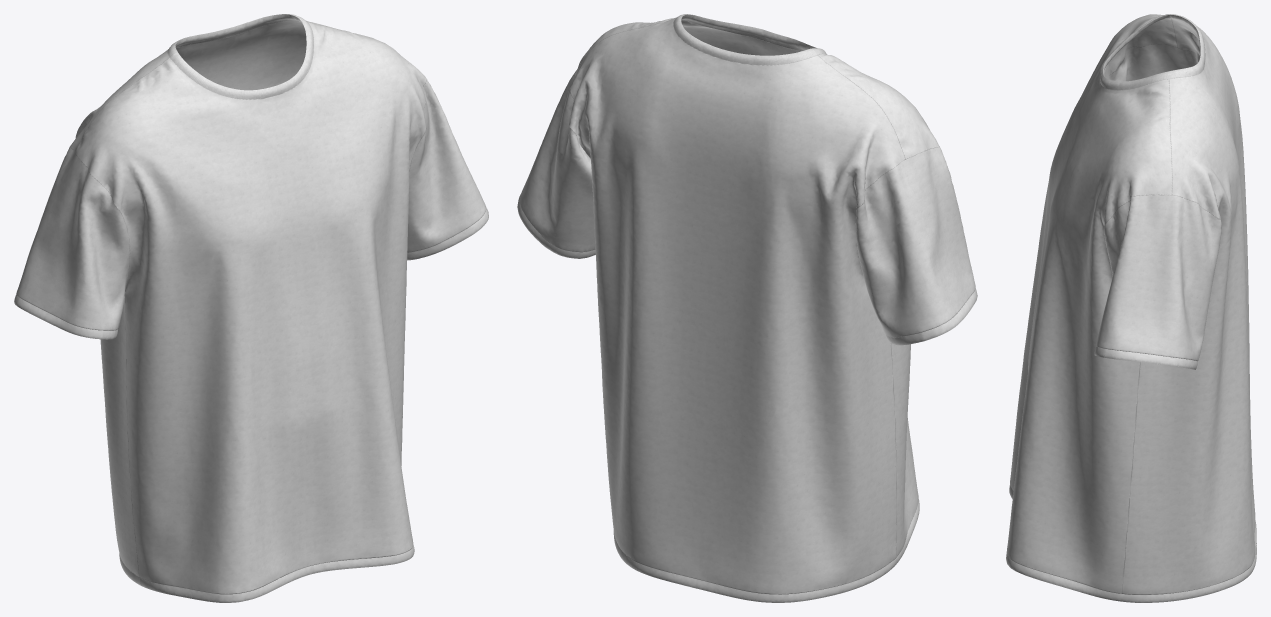
Rendered from tee_model.glb.
3 renders of one model, left to right at view 1: azimuth 30°, elevation 25°; view 2: azimuth 150°, elevation 25°; view 3: azimuth 270°, elevation 25°, orthographic. The views are drawn at different scales.
Parts seen in each view (by area): view 1: Object_4, Object_3, Object_5, Object_2; view 2: Object_4, Object_5, Object_3, Object_2; view 3: Object_4, Object_3, Object_5, Object_2.
Part boxes in pixels (left/top/right/bottom): Object_4: left=16, top=20, right=426, bottom=594; Object_3: left=75, top=14, right=488, bottom=575; Object_5: left=95, top=20, right=320, bottom=558; Object_2: left=14, top=207, right=488, bottom=602; Object_4: left=569, top=18, right=975, bottom=594; Object_5: left=574, top=25, right=896, bottom=583; Object_3: left=518, top=14, right=939, bottom=594; Object_2: left=517, top=194, right=977, bottom=602; Object_4: left=1006, top=14, right=1255, bottom=594; Object_3: left=1010, top=14, right=1249, bottom=594; Object_5: left=1122, top=18, right=1254, bottom=593; Object_2: left=1006, top=346, right=1256, bottom=602.
Size of the model in its own units: 0.637 by 0.7108 by 0.3212.
Materials: 1 (1 with a texture image).
